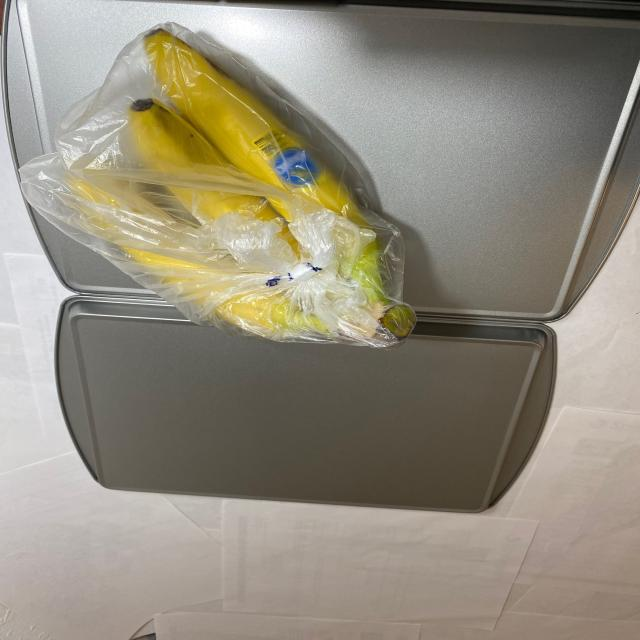banana: (41, 25, 431, 351)
